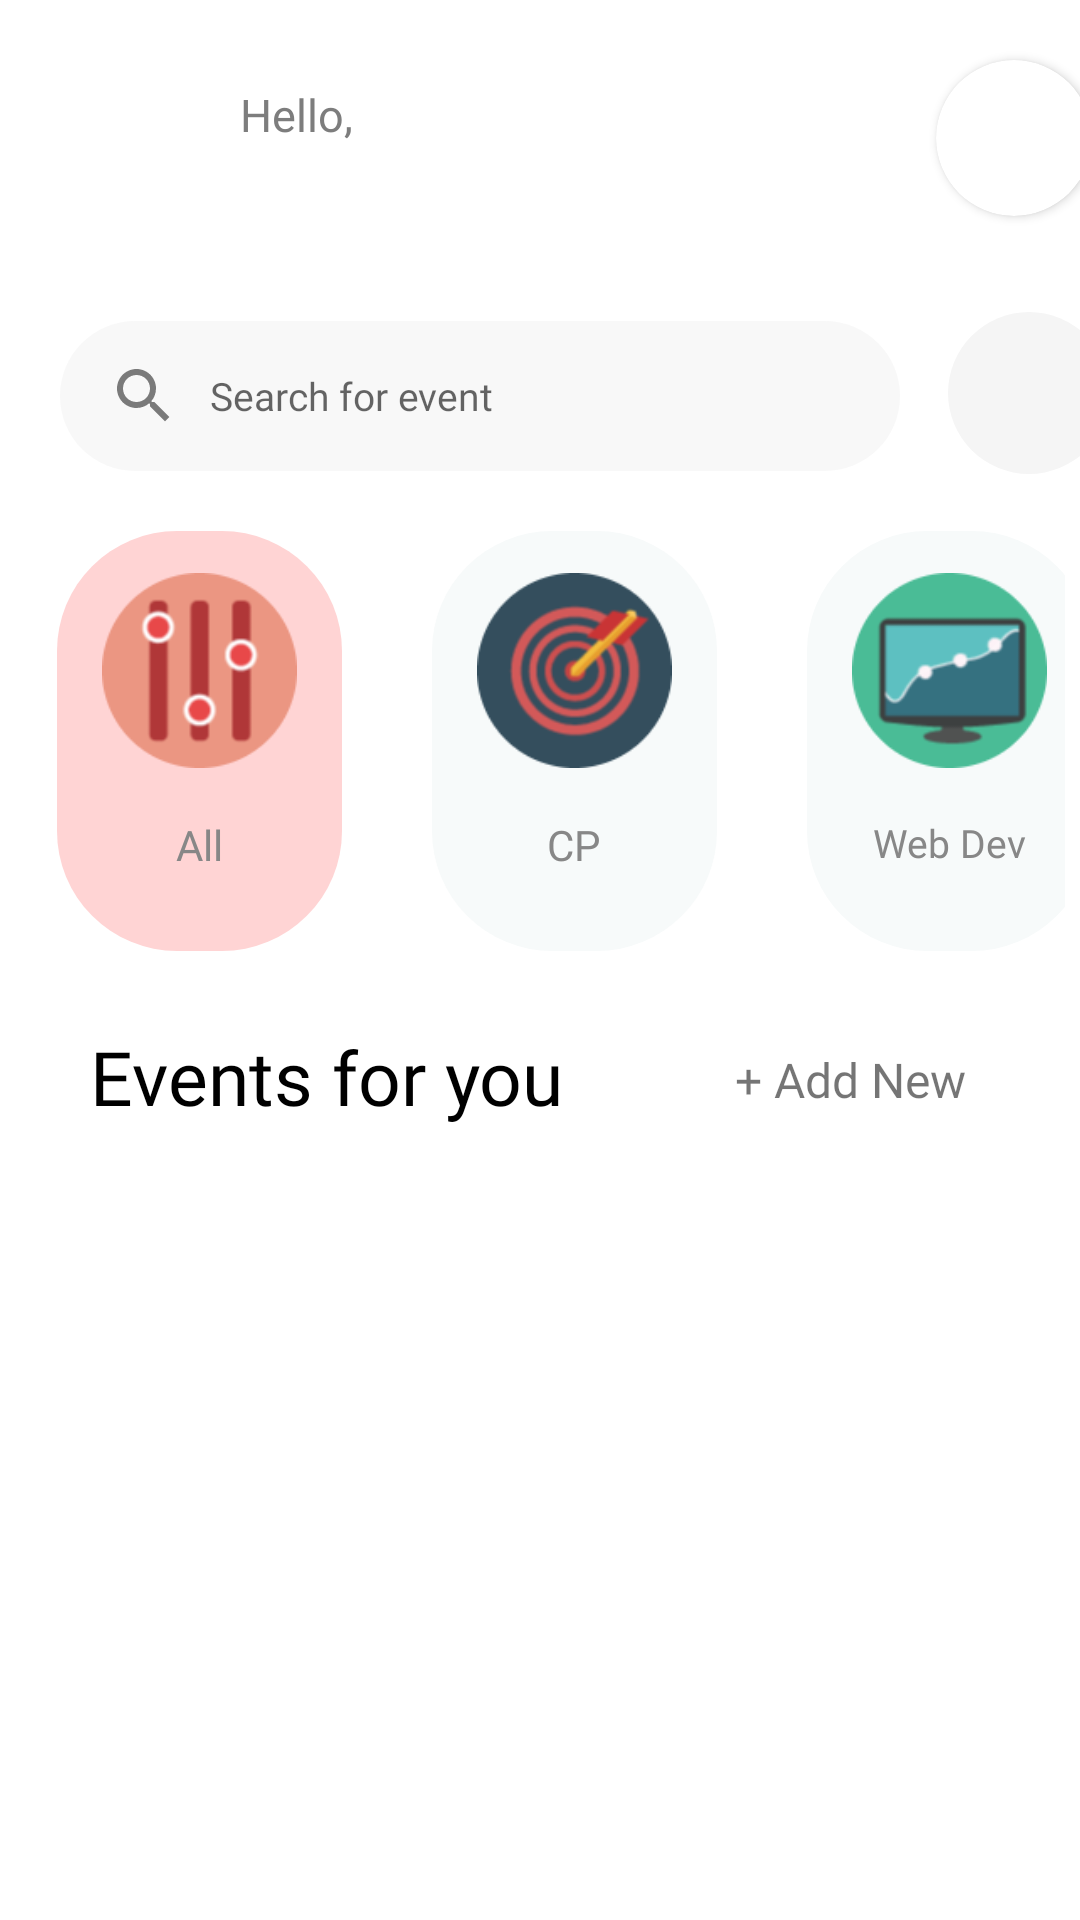

Screen size 1080w x 1920h. Icon name, then its center in pixels as (x,y):
all dashboardicon: (199,670)
web dashboardicon: (949,670)
